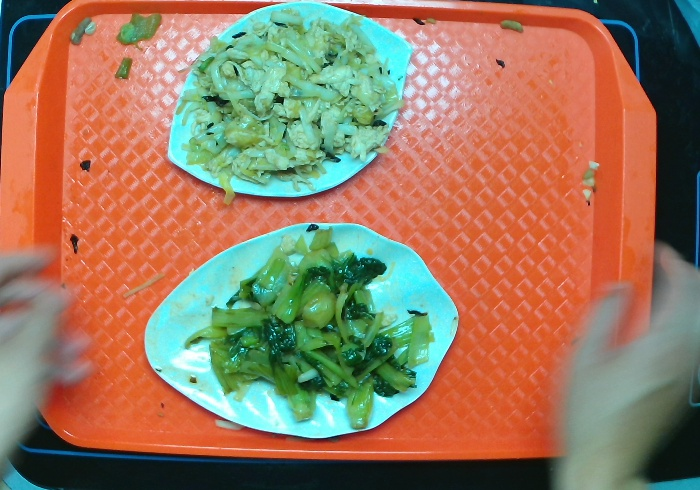RJxy-Bai_Ye_Pan: (144, 224, 463, 436)
RJxy-Da_Du_Pan: (162, 1, 415, 202)
